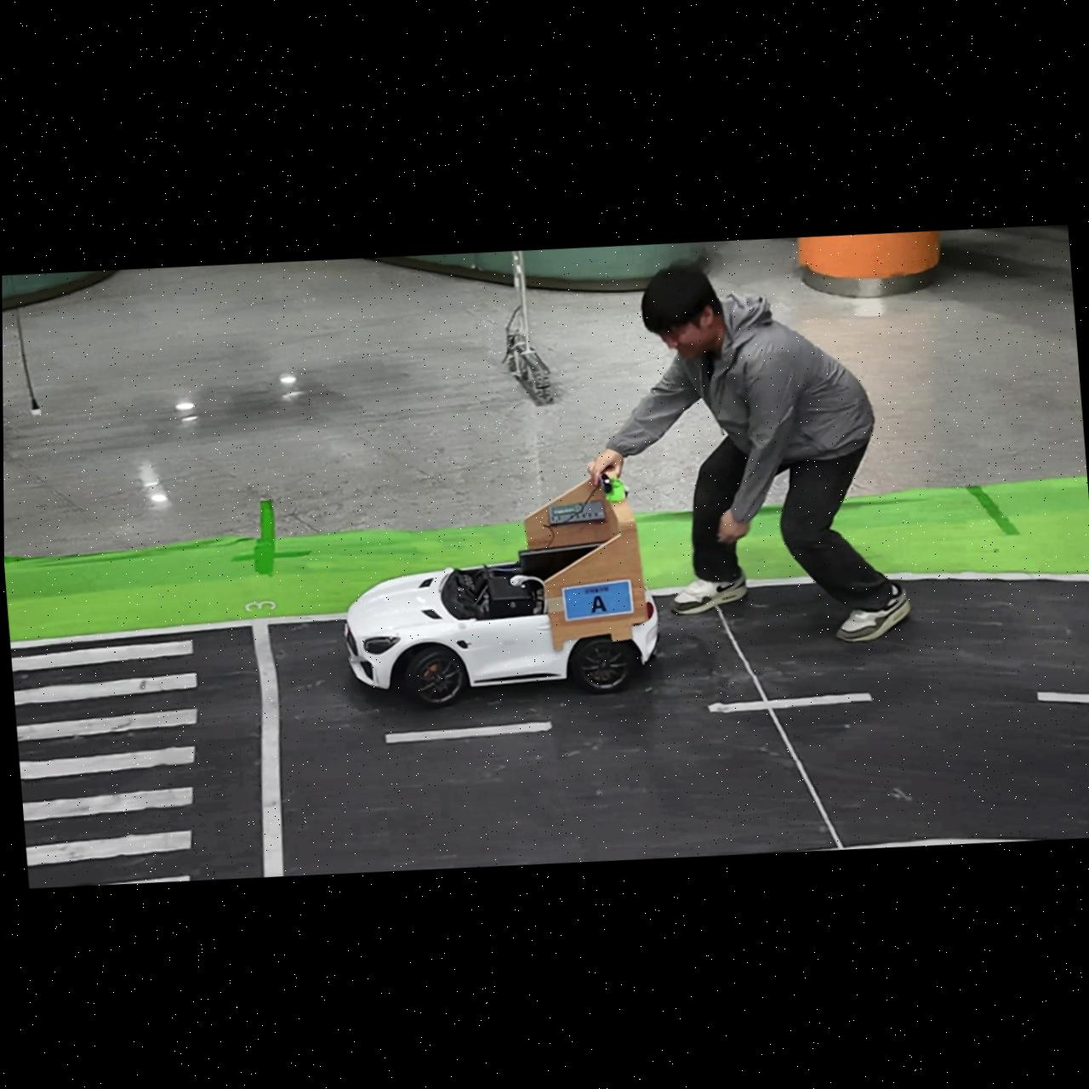broken_line: (385, 721, 552, 743), (708, 693, 872, 713), (1037, 691, 1089, 704)
crosswalk: (13, 640, 197, 888)
